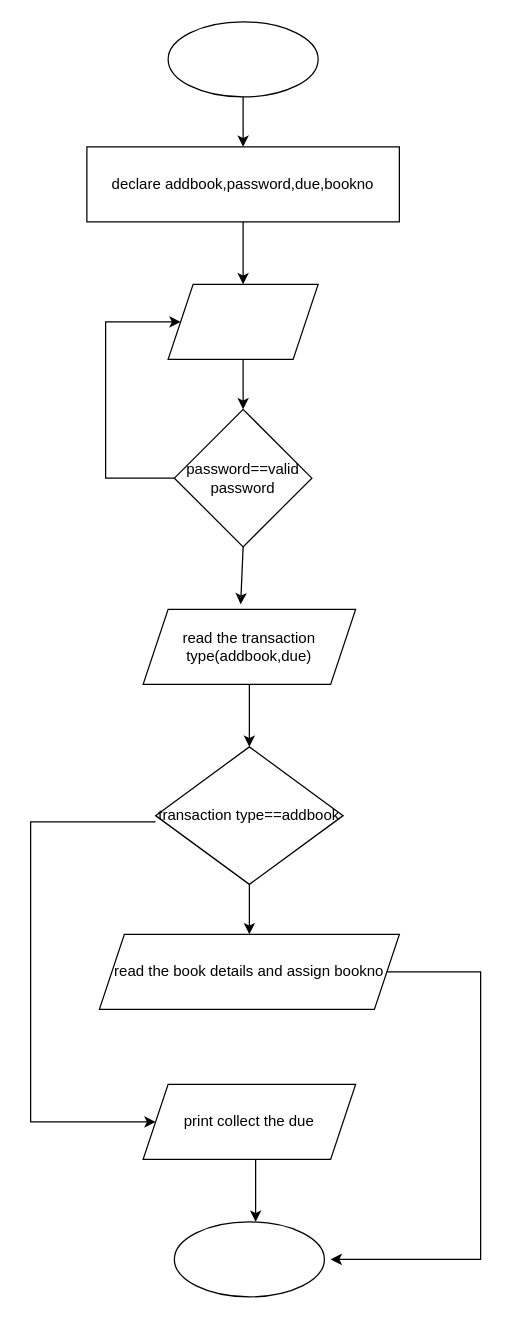
The diagram is 513 pixels wide and 1319 high, and some of its shapes have lost their labels. The shapes that lost their labels are listed below. From the top down, each one's centre as x and y in pixels, then its label:
point (242, 59): start
point (242, 321): read the password
point (248, 1259): stop
